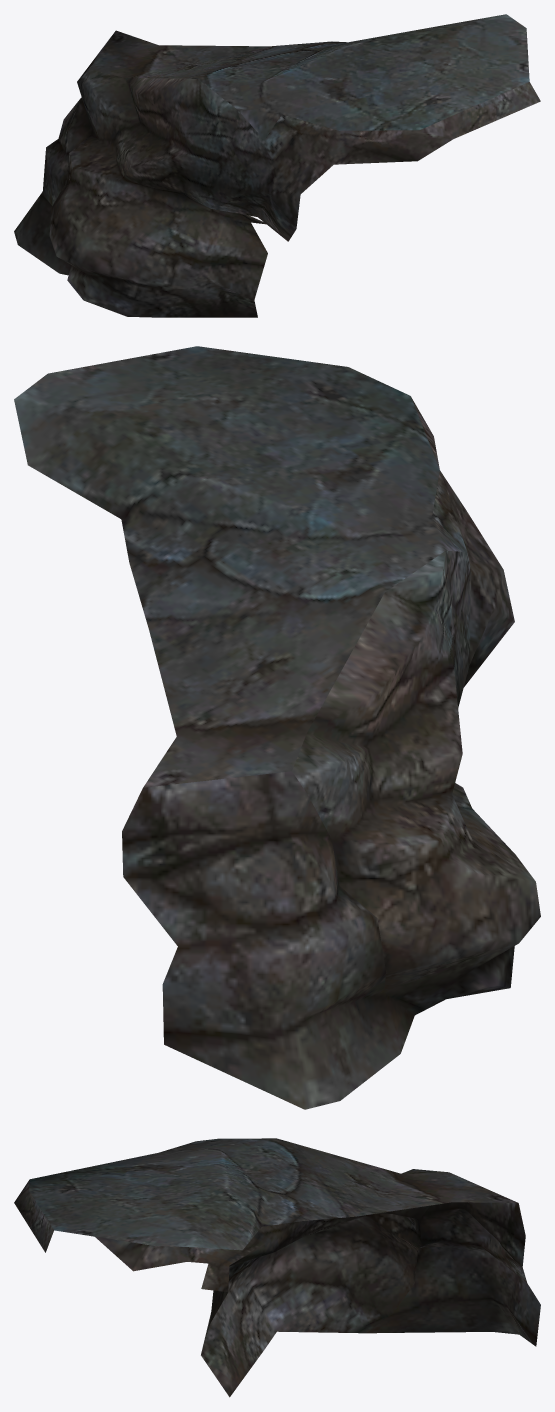
The model's file is S_Rock_Yellow033_7.FBX.
3 views of the same model, one above another, from view 1: azimuth 30°, elevation 25°; view 2: azimuth 150°, elevation 25°; view 3: azimuth 270°, elevation 25° (orthographic). The views are drawn at different scales.
Visible parts, largest first — view 1: S_Rock_Yellow033_7; view 2: S_Rock_Yellow033_7; view 3: S_Rock_Yellow033_7.
Boxes of the visible parts, x1,y1,x2,y2 form: S_Rock_Yellow033_7: (14, 14, 540, 317); S_Rock_Yellow033_7: (14, 346, 540, 1109); S_Rock_Yellow033_7: (14, 1138, 540, 1397).
Bounding box in the file's own units: 241 × 277 × 156.
